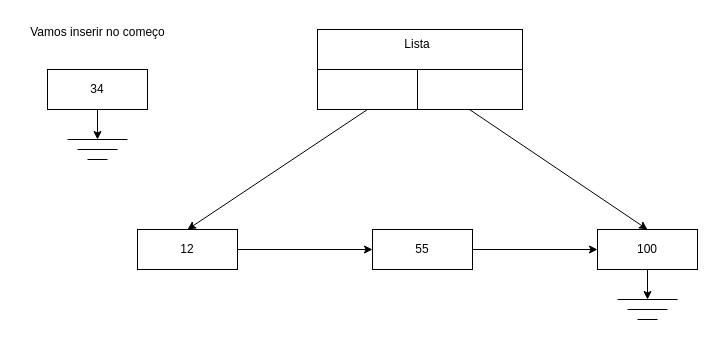
This 715x338 diagram has some shape labels left out. Here are the shapes that lost their labels. From the top down, the centre of each, then its label:
point (367, 89): Início
point (469, 89): Fim
